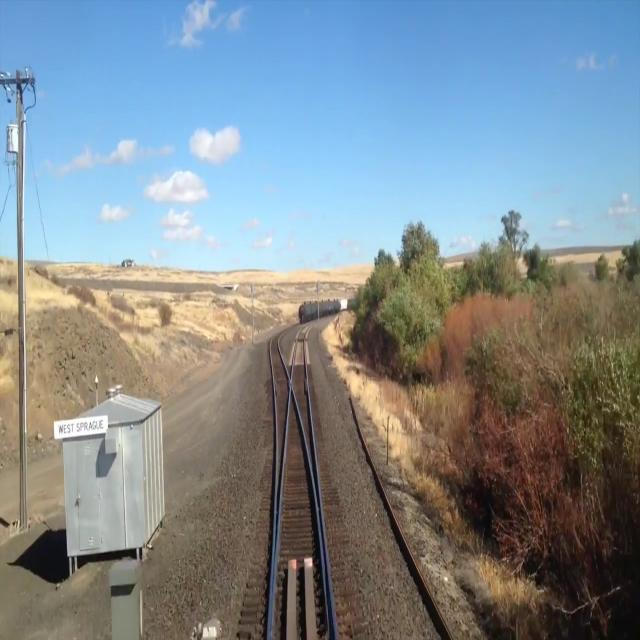rail-track: (272, 393, 325, 639), (293, 329, 315, 477), (272, 335, 288, 501), (329, 606, 333, 639)
